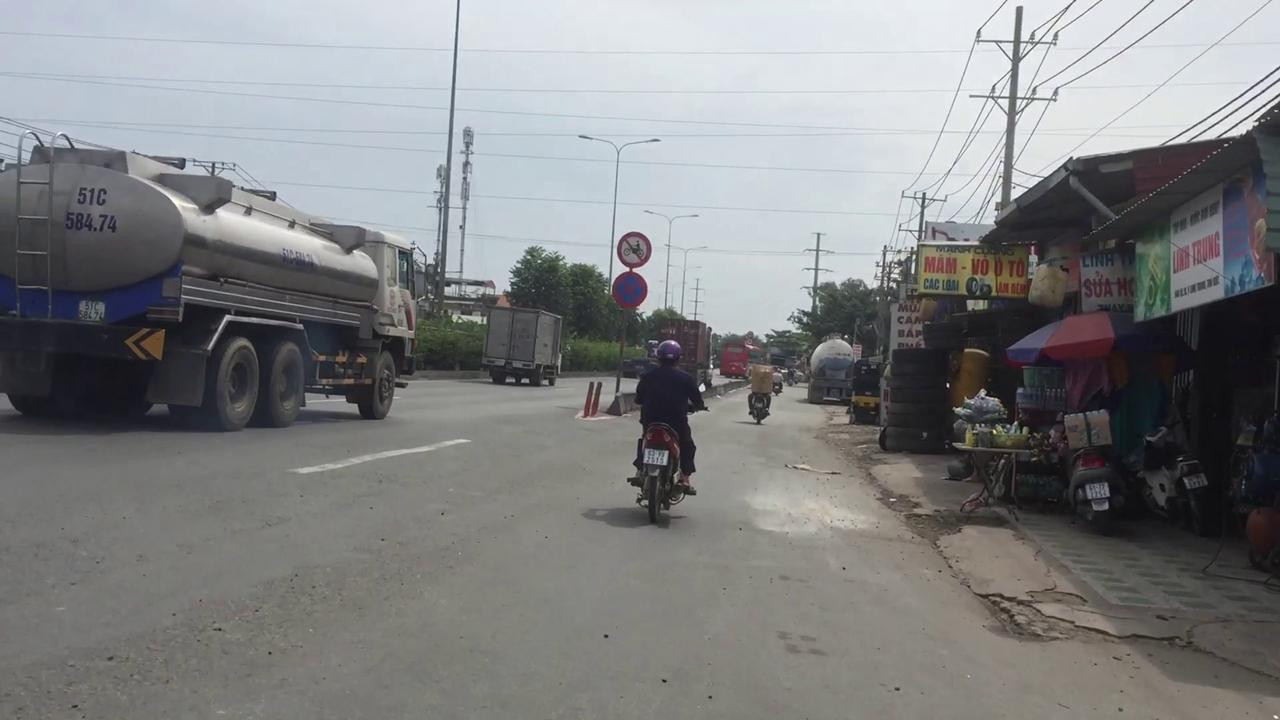P.103a: (610, 270, 650, 308)
P.103b: (615, 230, 652, 266)
